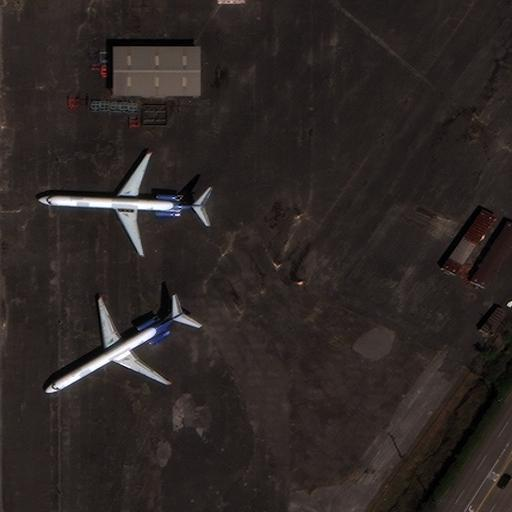Medium Civil Transport: (37, 152, 206, 257), (45, 299, 186, 392)
